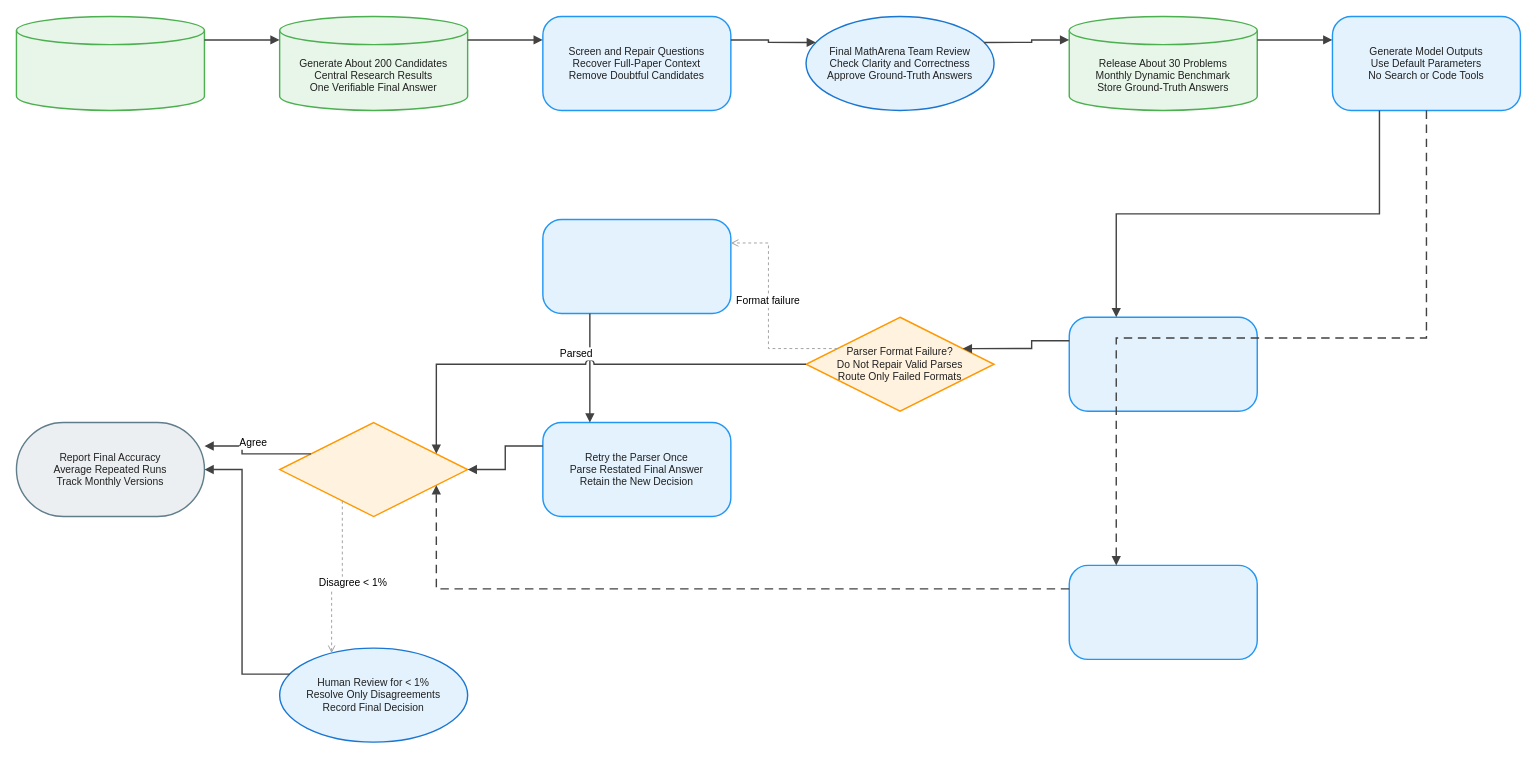
The diagram is 1538 pixels wide and 760 high, and some of its shapes have lost their labels. Here are the shapes that lost their labels. From the top down, the centre of each, then its label:
At point (110, 63): "Collect Prior-Month Papers Recent arXiv Mathematics Cover Diverse Fields".
At point (636, 266): "Ask Model to Restate Use Expected Answer Format Do Not Resolve Content".
At point (1163, 364): "Run Exact-Answer Parser Symbolic Equivalence Compare with Ground Truth".
At point (373, 469): "Parser and Judge Agree? Disagreements Below 1% Route Exceptions Only".
At point (1163, 612): "Run LLM Judge in Parallel Independent Correctness Check Compare Final Decisions".
